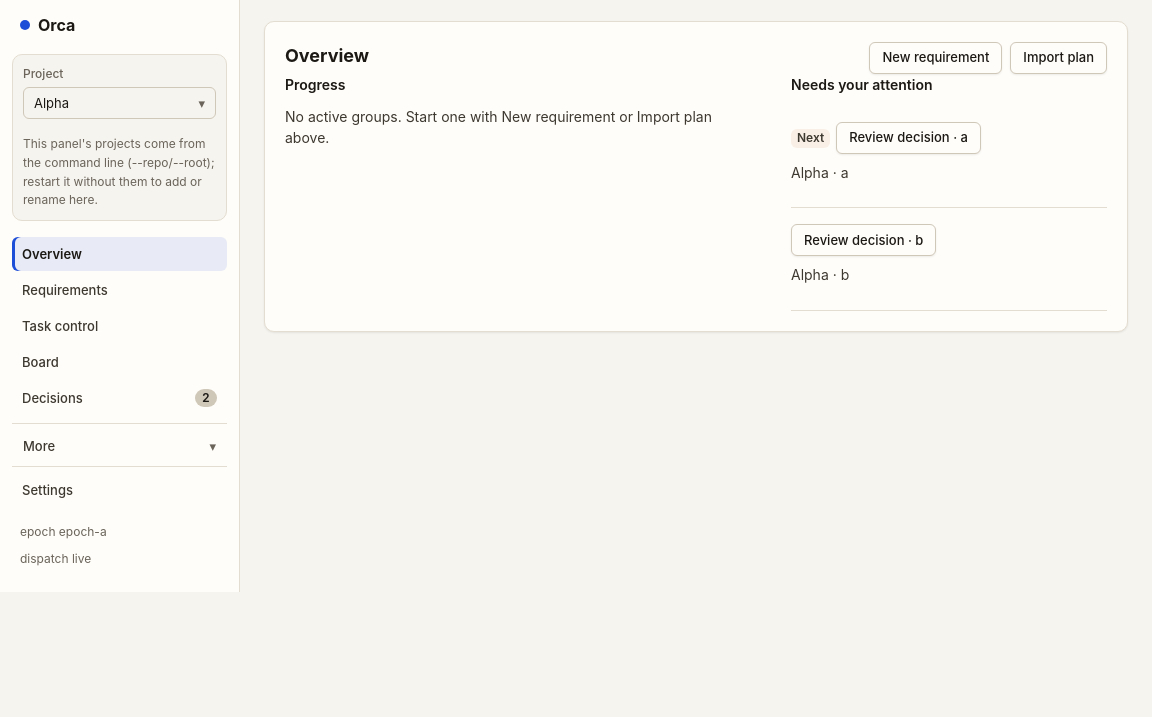
Test: switching overview decision retains requested focus after the new detail arrives
Click the button "Review decision · a". click: [909, 138]
box: [836, 122, 981, 154]
(page scrolled)
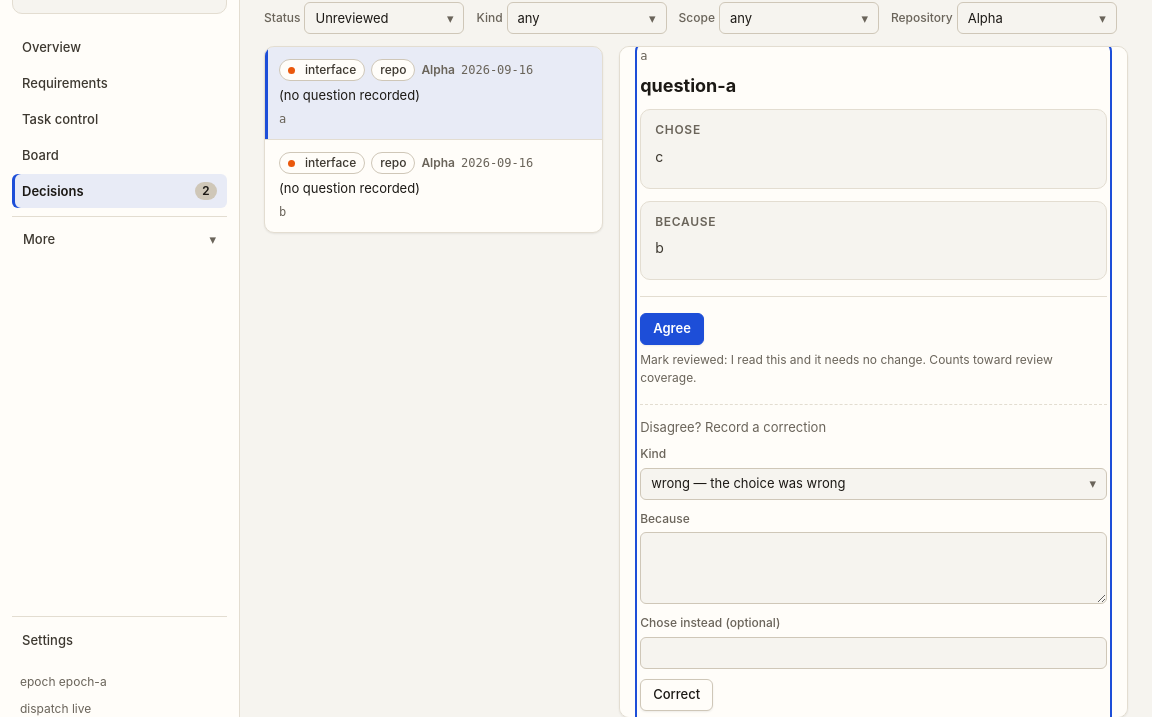
Click the link "Overview". click: [52, 47]
box: [22, 39, 81, 55]
(page scrolled)
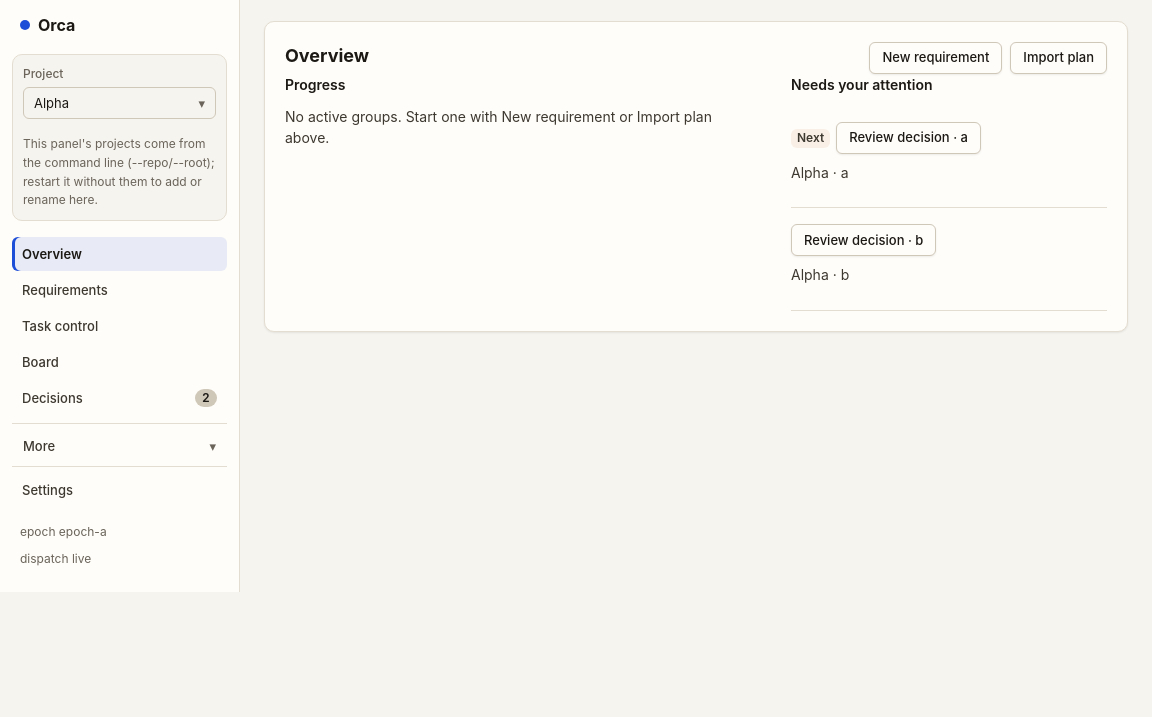
Click the button "Review decision · b". click: [864, 240]
box: [791, 224, 936, 256]
(page scrolled)
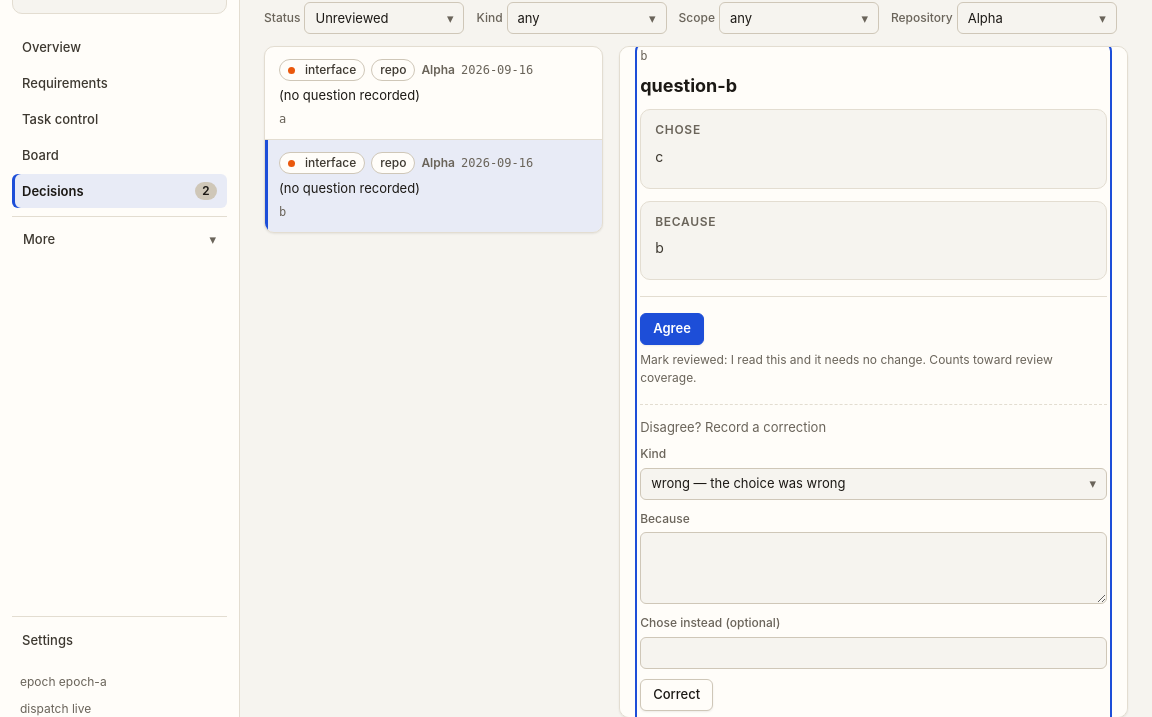
Check: the heading with test id "decision-question" reads "question-b", box [640, 75, 737, 96]
